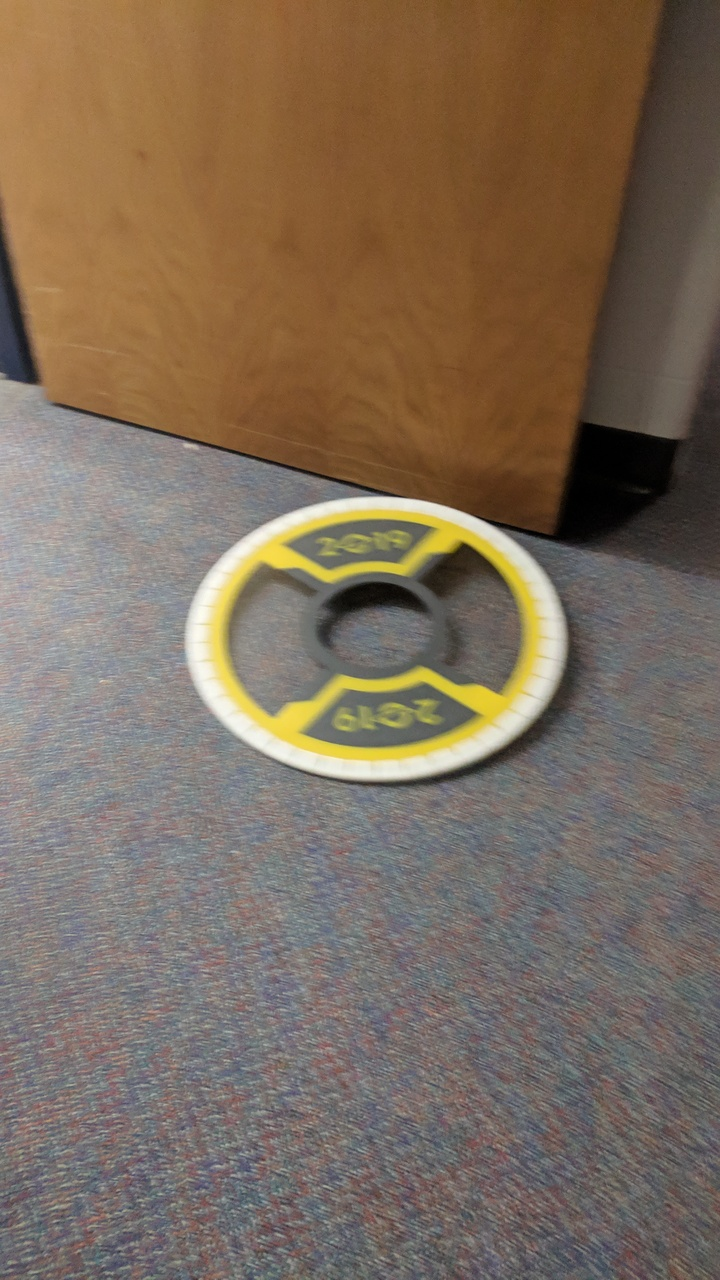hatch_panel: (171, 491, 582, 791)
